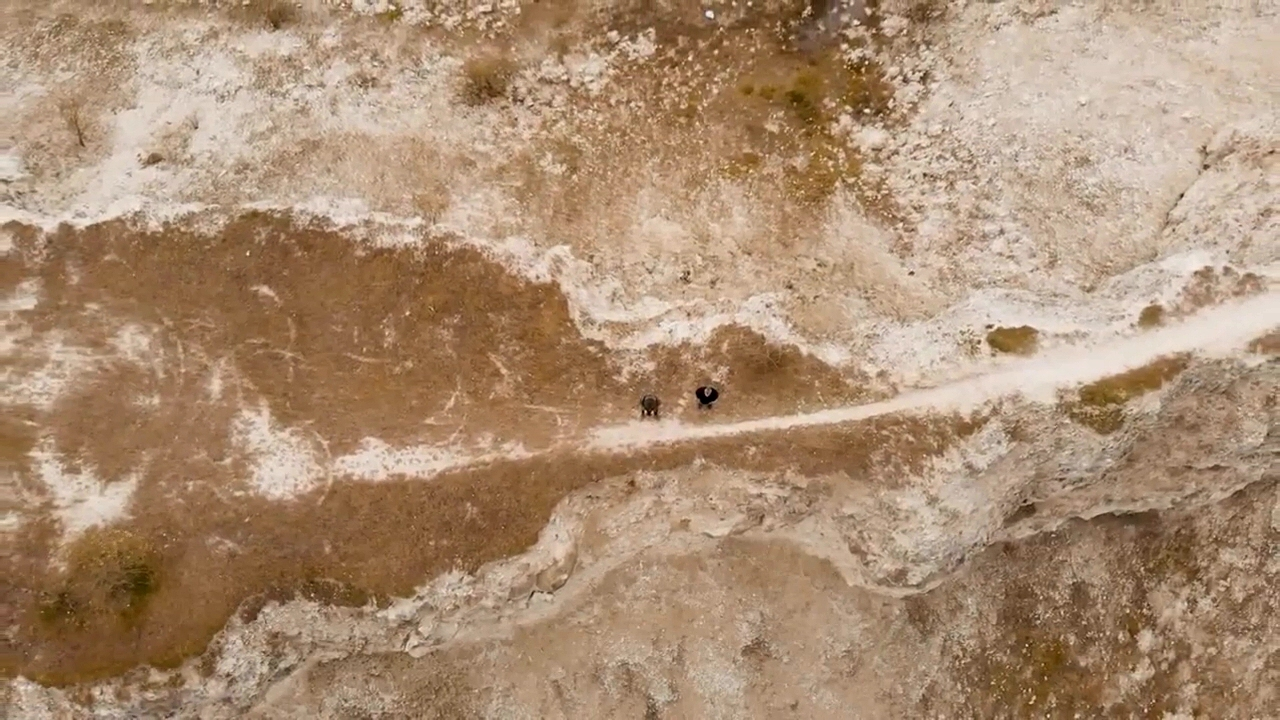insan: (692, 381, 725, 412), (641, 392, 663, 423)
